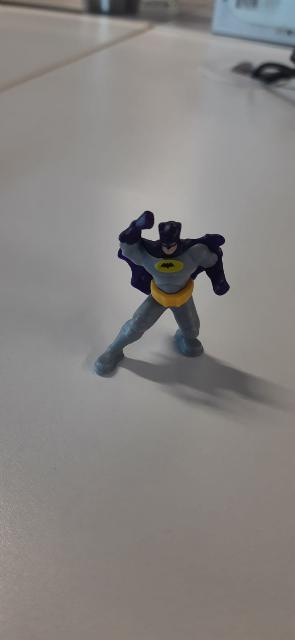Batman: (88, 208, 232, 386)
